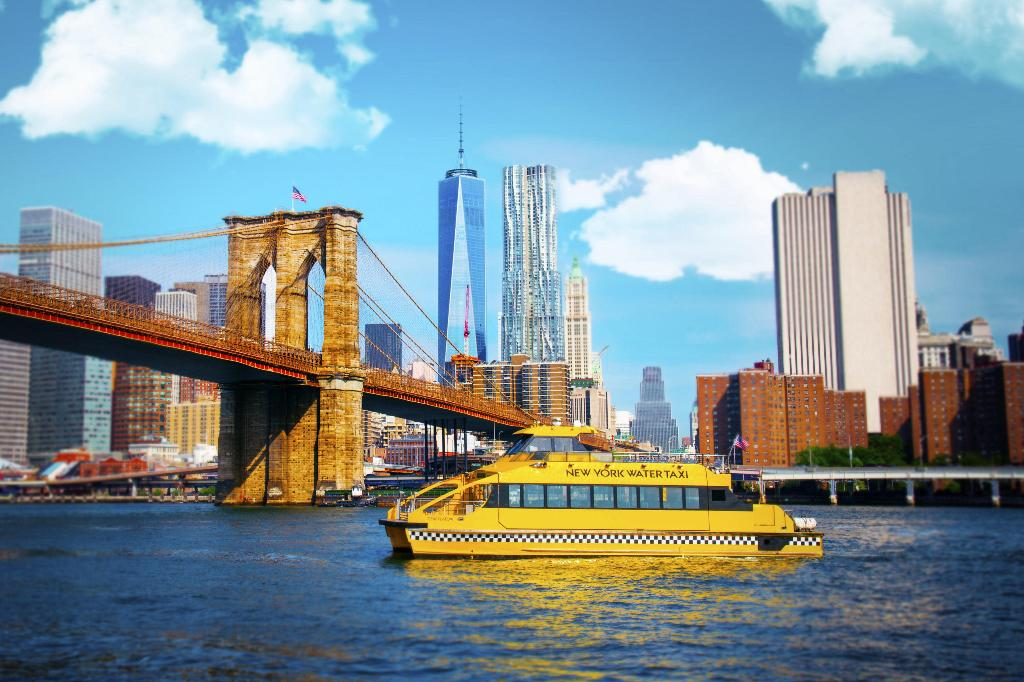PassengerShip: (379, 410, 825, 562)
